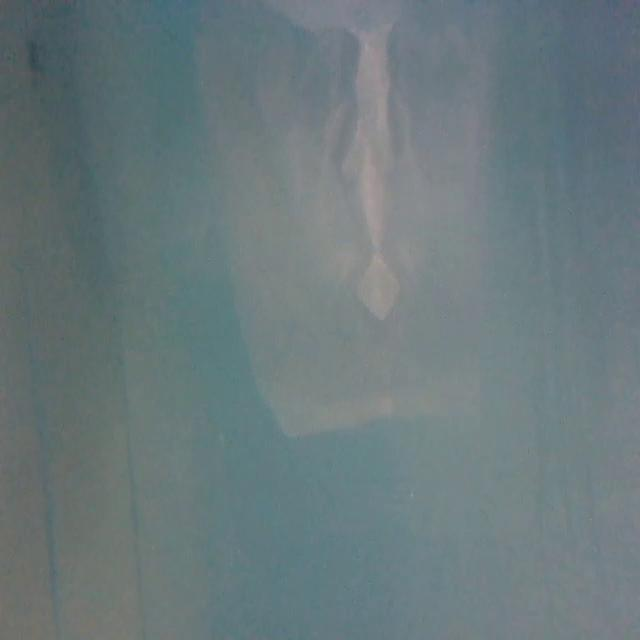plastic bags: (195, 0, 510, 432)
